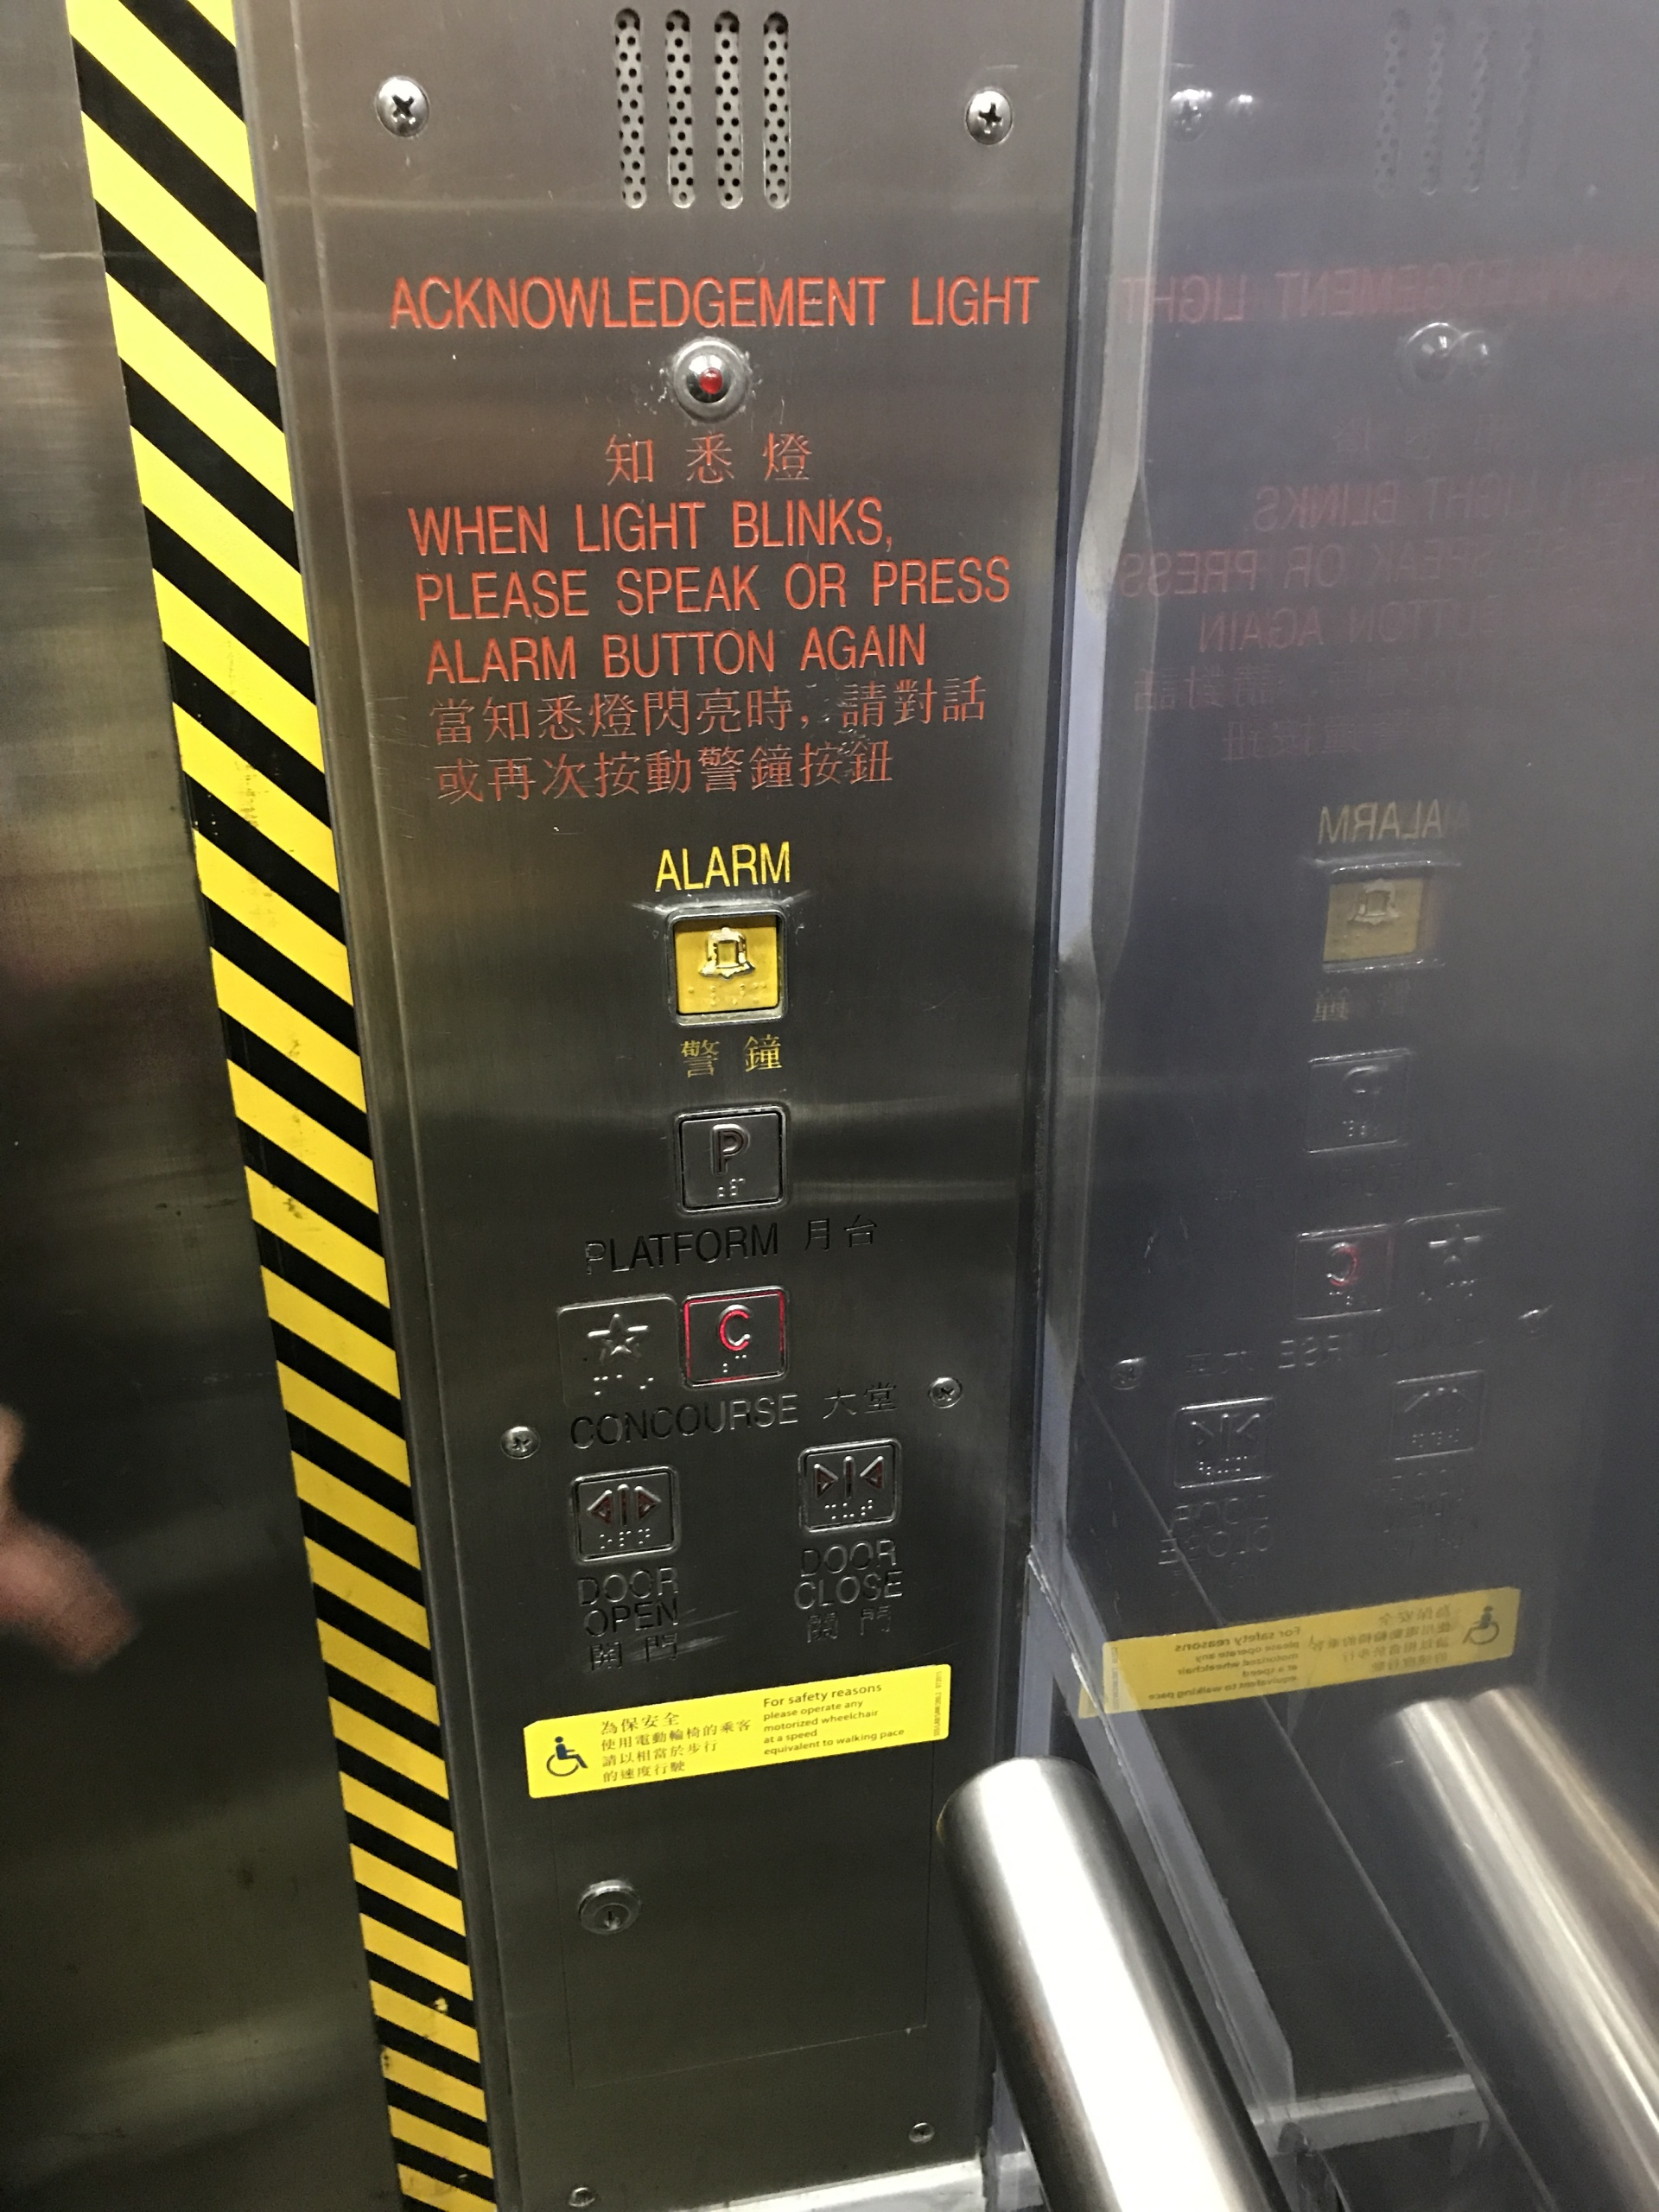C: (681, 1282, 791, 1393)
P: (671, 1099, 789, 1216)
alarm: (657, 897, 793, 1031)
close: (796, 1437, 904, 1538)
indicator: (671, 329, 751, 423)
open: (570, 1460, 680, 1571)
s: (554, 1291, 683, 1416)
